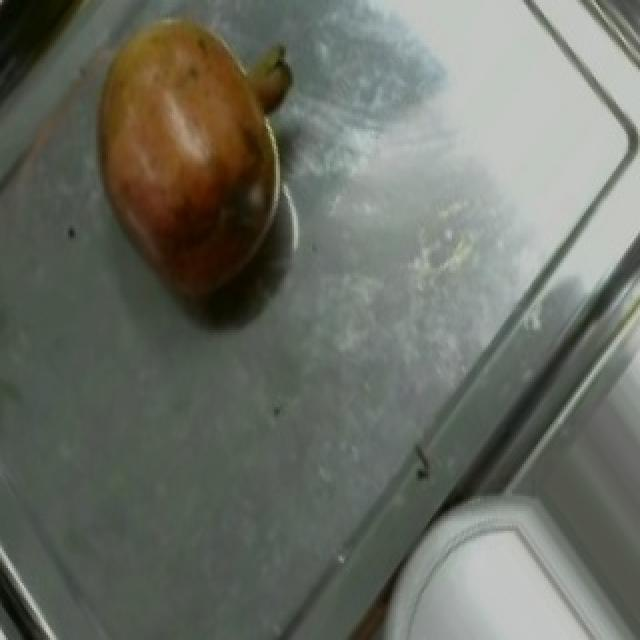fruit: (68, 0, 310, 280)
